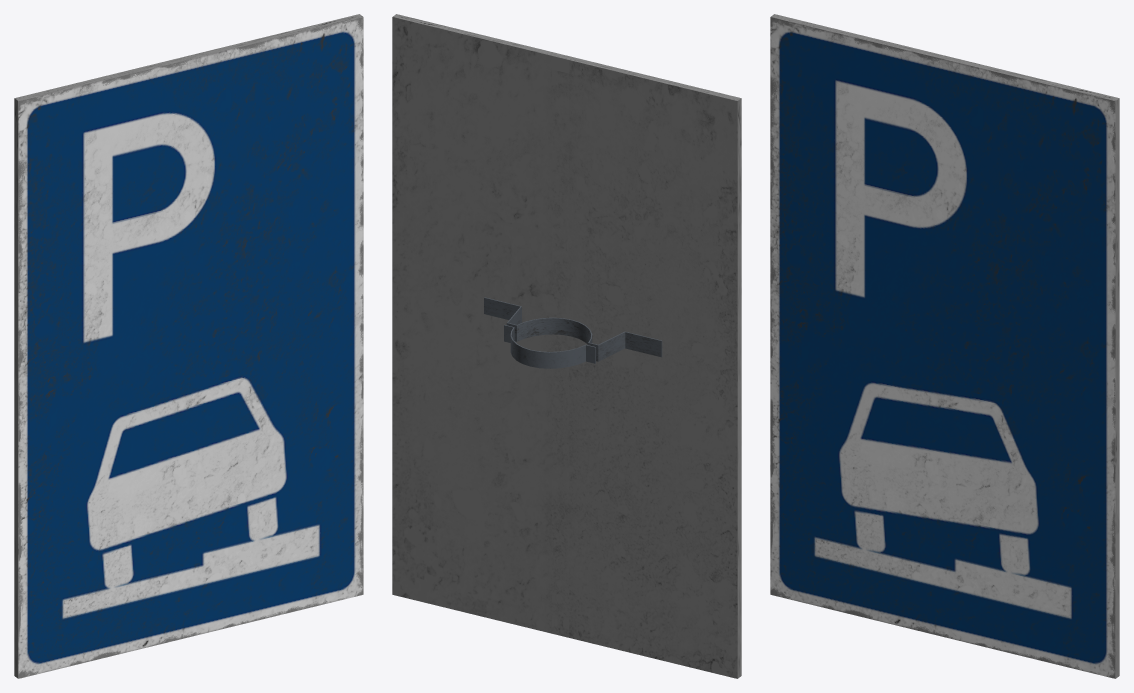
File: Sign-Parking.fbx
The picture shows the model from 3 angles, left to right: view 1: azimuth 30°, elevation 25°; view 2: azimuth 150°, elevation 25°; view 3: azimuth 330°, elevation 25°; orthographic projection.
Visible parts, largest first — view 1: Sign_Parking; view 2: Sign_Parking; view 3: Sign_Parking.
Part boxes in pixels (bbox=[...]): Sign_Parking: bbox=[14, 14, 363, 678]; Sign_Parking: bbox=[392, 14, 741, 678]; Sign_Parking: bbox=[770, 14, 1119, 678].
Bounding box in the file's own units: 40 × 64 × 9.44.
